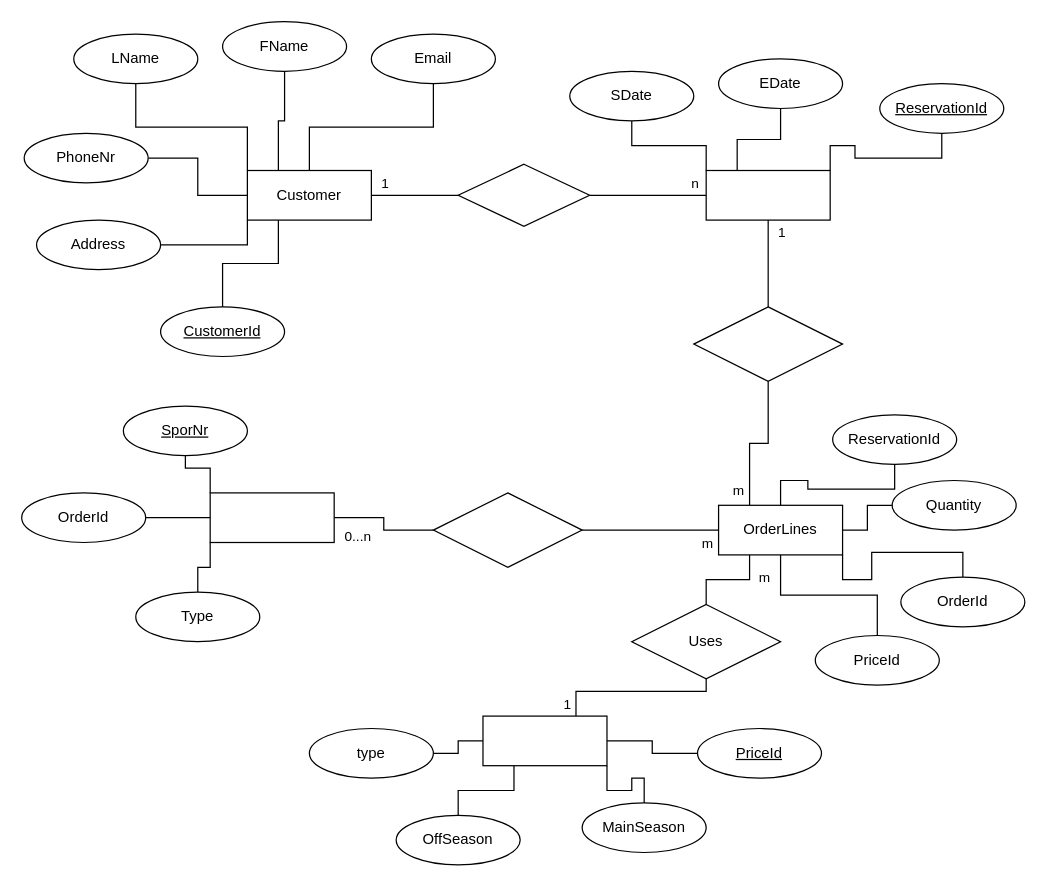
This 1047x887 diagram has some shape labels left out. Each missing label, with the centre of its shape:
has: pixel 768 343
makes: pixel 523 194
Price: pixel 544 740
Reservation: pixel 767 194
Reserves: pixel 507 529
Spot: pixel 271 517
